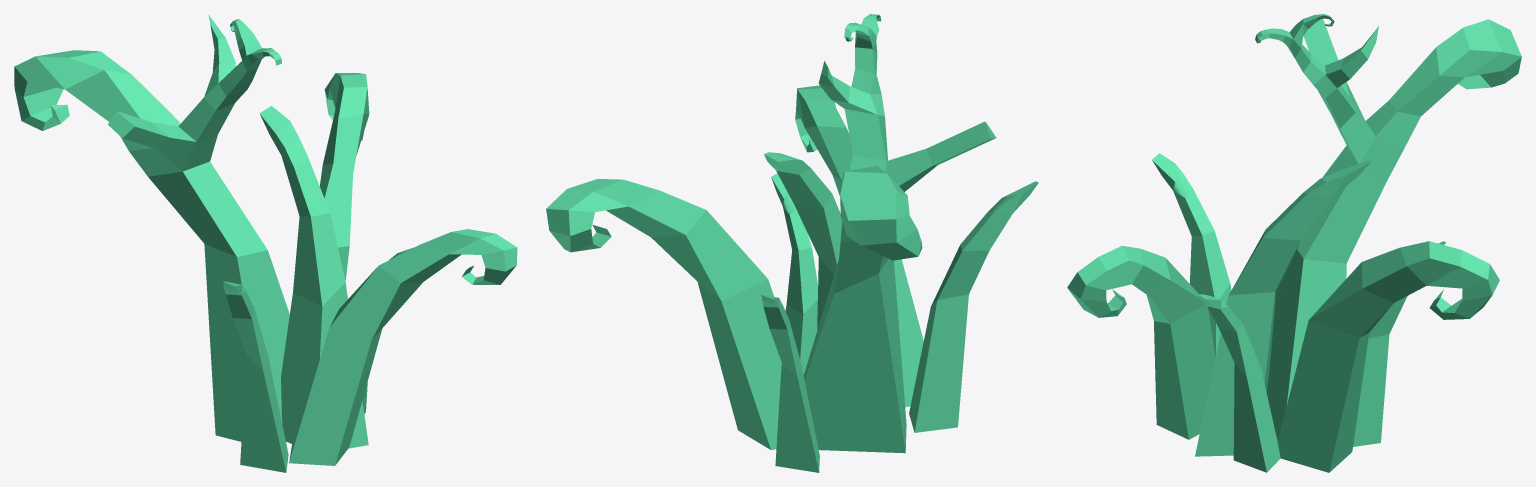
File: Grass_1.glb
3 renders of one model, left to right at view 1: azimuth 30°, elevation 25°; view 2: azimuth 150°, elevation 25°; view 3: azimuth 270°, elevation 25°, orthographic. The views are drawn at different scales.
Visible parts, largest first — view 1: Grass_1; view 2: Grass_1; view 3: Grass_1.
Boxes of the visible parts, x1,y1,x2,y2 form: Grass_1: (14, 14, 517, 472); Grass_1: (546, 14, 1038, 472); Grass_1: (1067, 14, 1521, 472).
Bounding box in the file's own units: 1.62 × 1.8 × 1.82.
Materials: 1 (1 with a texture image).
